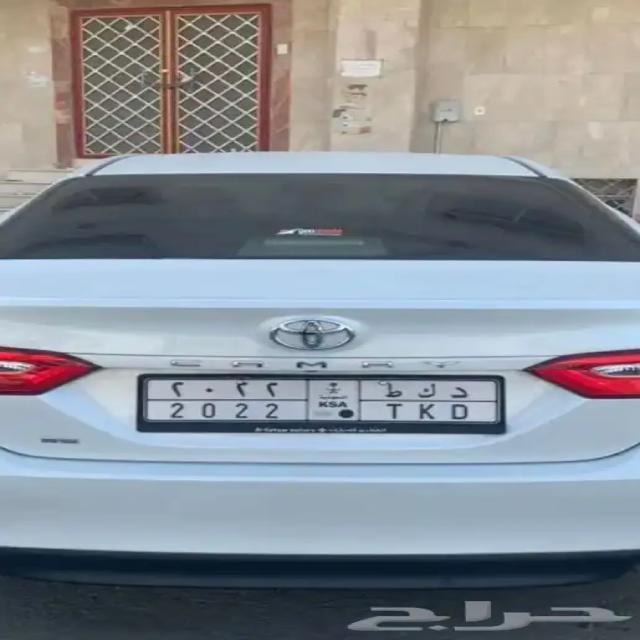license_plate: (142, 398, 498, 424)
